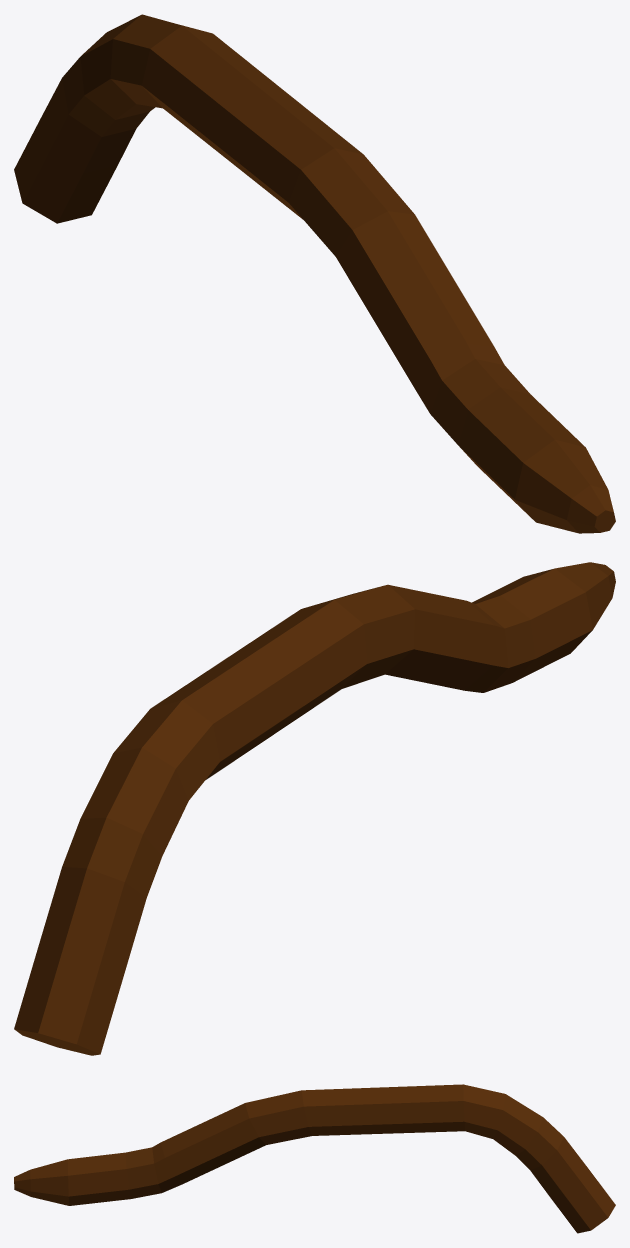
The model's file is Raiz.fbx.
3 views of the same model, one above another, from view 1: azimuth 30°, elevation 25°; view 2: azimuth 150°, elevation 25°; view 3: azimuth 270°, elevation 25° (orthographic). The views are drawn at different scales.
Visible parts, largest first — view 1: Cylinder; view 2: Cylinder; view 3: Cylinder.
Part boxes in pixels (x1,y1,x2,y2): Cylinder: (14, 14, 615, 533); Cylinder: (14, 562, 615, 1055); Cylinder: (14, 1084, 615, 1233).
Size of the model in its own units: 33.07 by 110 by 416.
